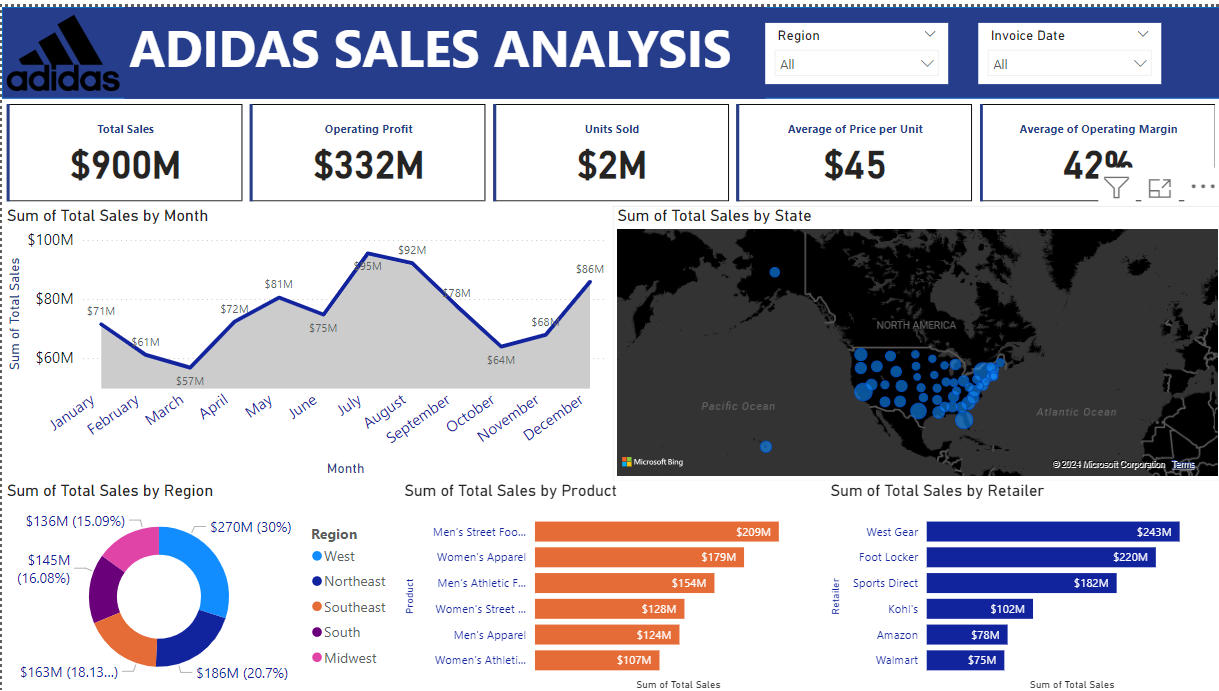

Layout of this report page (visuals, bound fields, positions):
{"tool":"powerbi","page":{"name":"Page 1","canvas":[1280,720],"ordinal":0},"visuals":[{"type":"shape","box":[0,0,1280,96],"z":0},{"type":"textbox","box":[128,0,672,96],"z":1000},{"type":"cardVisual","fields":{"Data":["Sum(Data Sales Adidas.Total Sales)","Sum(Data Sales Adidas.Operating Profit)","Sum(Data Sales Adidas.Units Sold)","Avg(Data Sales Adidas.Price per Unit)","Avg(Data Sales Adidas.Operating Margin)"]},"box":[0,96,1280,112],"z":2000},{"type":"areaChart","fields":{"Y":["Sum(Data Sales Adidas.Total Sales)"],"Category":["Data Sales Adidas.Invoice Date.Variation.Date Hierarchy.Month"]},"box":[0,208,640,288],"z":3000},{"type":"map","fields":{"Size":["Sum(Data Sales Adidas.Total Sales)"],"Category":["Data Sales Adidas.State"]},"box":[640,208,640,288],"z":4000},{"type":"donutChart","fields":{"Y":["Sum(Data Sales Adidas.Total Sales)"],"Category":["Data Sales Adidas.Region"]},"box":[0,496,416,224],"z":5000},{"type":"barChart","fields":{"Category":["Data Sales Adidas.Product"],"Y":["Sum(Data Sales Adidas.Total Sales)"]},"box":[416,496,448,224],"z":5001},{"type":"barChart","fields":{"Y":["Sum(Data Sales Adidas.Total Sales)"],"Category":["Data Sales Adidas.Retailer"]},"box":[864,496,416,224],"z":5002},{"type":"slicer","fields":{"Values":["Data Sales Adidas.Region"]},"box":[800,16,192,64],"z":5003},{"type":"slicer","fields":{"Values":["Data Sales Adidas.Invoice Date"]},"box":[1024,16,192,64],"z":5004},{"type":"image","box":[0,0,128,96],"z":5005}]}

Visuals, with their boxes in screenshot pixels (x1, y1, x2, y2), scaled from the page's 1280x720 canvas onto the 1219x691 screenshot:
shape: bbox=[0, 0, 1218, 92]
textbox: bbox=[122, 0, 762, 92]
cardVisual - Sum(Data Sales Adidas.Total Sales) x Sum(Data Sales Adidas.Operating Profit): bbox=[0, 92, 1218, 200]
areaChart - Sum(Data Sales Adidas.Total Sales) x Data Sales Adidas.Invoice Date.Variation.Date Hierarchy.Month: bbox=[0, 200, 610, 476]
map - Sum(Data Sales Adidas.Total Sales) x Data Sales Adidas.State: bbox=[610, 200, 1218, 476]
donutChart - Sum(Data Sales Adidas.Total Sales) x Data Sales Adidas.Region: bbox=[0, 476, 396, 690]
barChart - Data Sales Adidas.Product x Sum(Data Sales Adidas.Total Sales): bbox=[396, 476, 823, 690]
barChart - Sum(Data Sales Adidas.Total Sales) x Data Sales Adidas.Retailer: bbox=[823, 476, 1218, 690]
slicer - Data Sales Adidas.Region: bbox=[762, 15, 945, 77]
slicer - Data Sales Adidas.Invoice Date: bbox=[975, 15, 1158, 77]
image: bbox=[0, 0, 122, 92]
